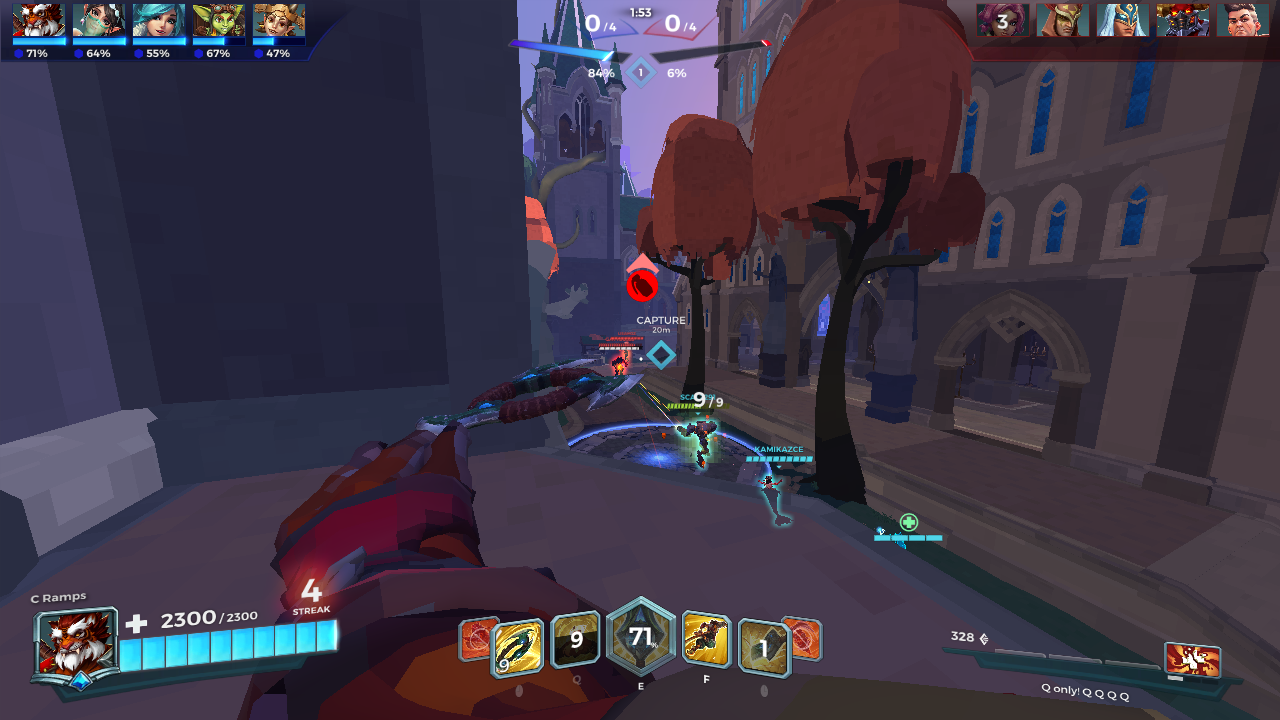model: (611, 354, 628, 380), (621, 343, 631, 364)
